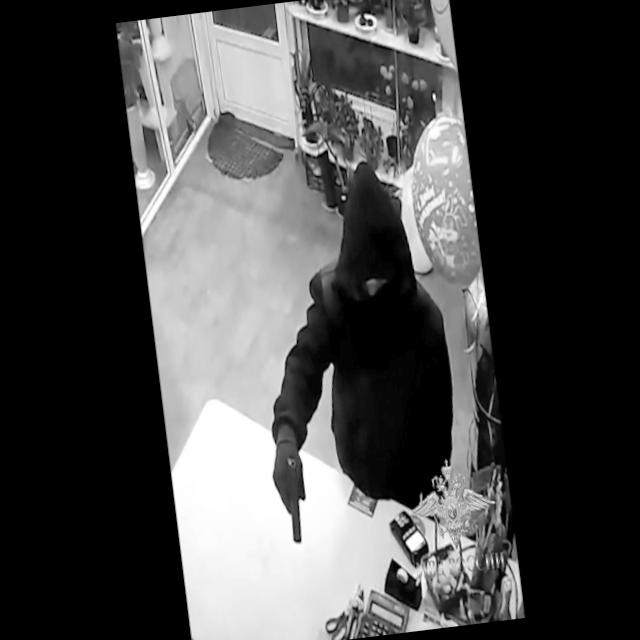gun: (267, 434, 314, 546)
person with a gun: (239, 186, 470, 544)
